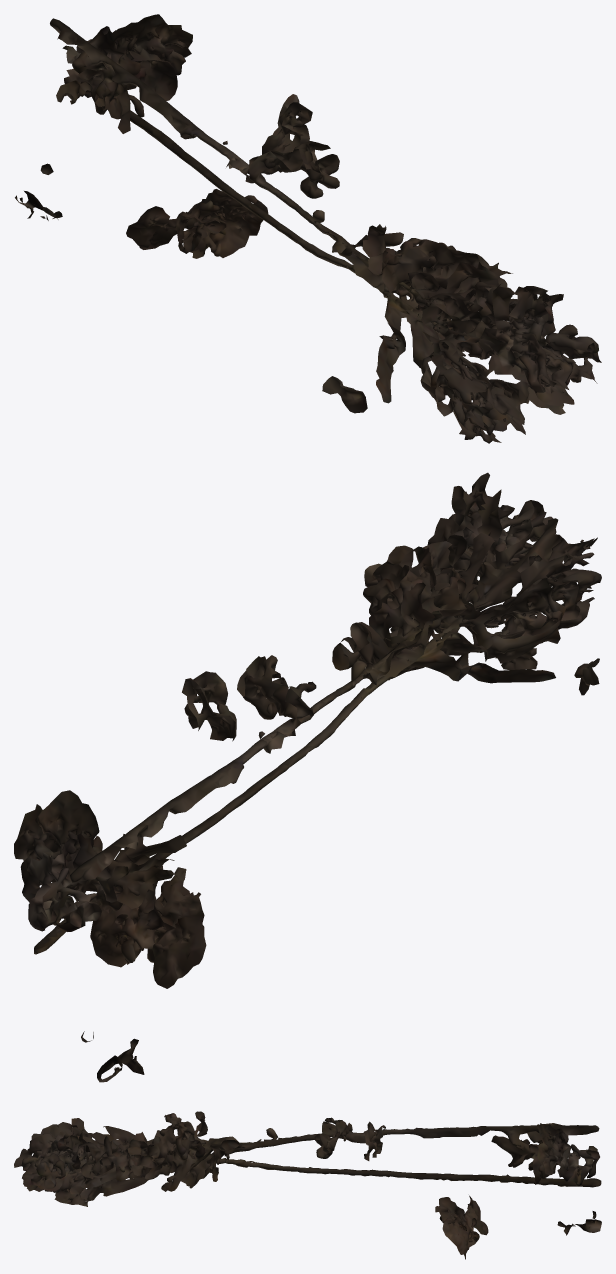
The model's file is tree8_mesh.dae.
3 views of the same model, one above another, from view 1: azimuth 30°, elevation 25°; view 2: azimuth 150°, elevation 25°; view 3: azimuth 270°, elevation 25° (orthographic). The views are drawn at different scales.
Visible parts, largest first — view 1: node0; view 2: node0; view 3: node0.
Boxes of the visible parts, box(x1,y1,x2,y2) form: node0: box(15, 14, 601, 443); node0: box(14, 472, 601, 1082); node0: box(14, 1111, 601, 1259).
Size of the model in its own units: 7.49 by 7.58 by 28.82.
